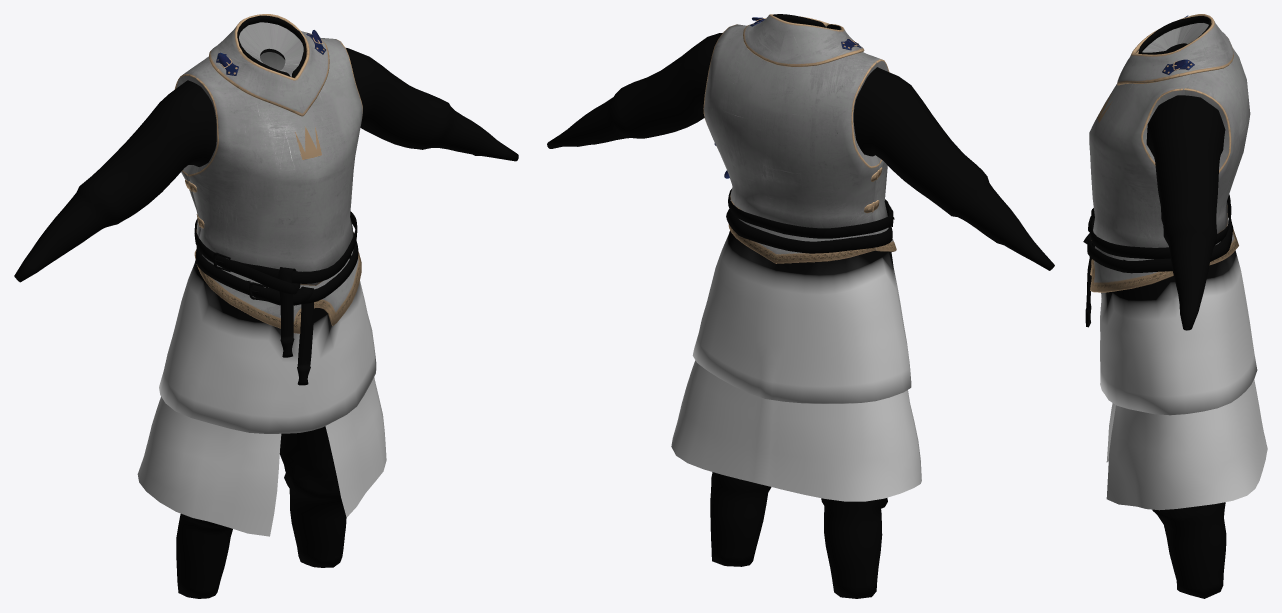
Rendered from swan_knight_armor_2a_t2_slim.fbx.
3 renders of one model, left to right at view 1: azimuth 30°, elevation 25°; view 2: azimuth 150°, elevation 25°; view 3: azimuth 270°, elevation 25°, orthographic. The views are drawn at different scales.
Visible parts, largest first — view 1: swan_knight_armor_2a_t2_slim.0, swan_knight_armor_2a_t2_slim.1; view 2: swan_knight_armor_2a_t2_slim.0, swan_knight_armor_2a_t2_slim.1; view 3: swan_knight_armor_2a_t2_slim.0, swan_knight_armor_2a_t2_slim.1.
Boxes of the visible parts, x1,y1,x2,y2 form: swan_knight_armor_2a_t2_slim.0: [14, 15, 518, 598]; swan_knight_armor_2a_t2_slim.1: [174, 14, 362, 333]; swan_knight_armor_2a_t2_slim.0: [547, 14, 1054, 598]; swan_knight_armor_2a_t2_slim.1: [703, 14, 896, 263]; swan_knight_armor_2a_t2_slim.0: [1083, 16, 1267, 598]; swan_knight_armor_2a_t2_slim.1: [1089, 14, 1250, 292].
Size of the model in its own units: 1.3 by 0.424 by 1.37.
